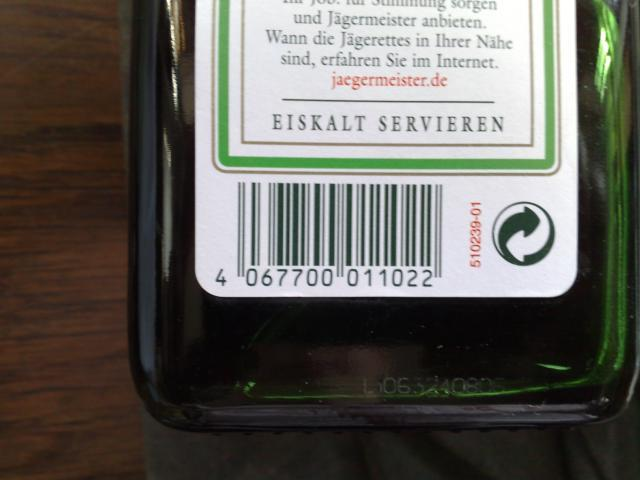Barcode: (212, 175, 449, 294)
